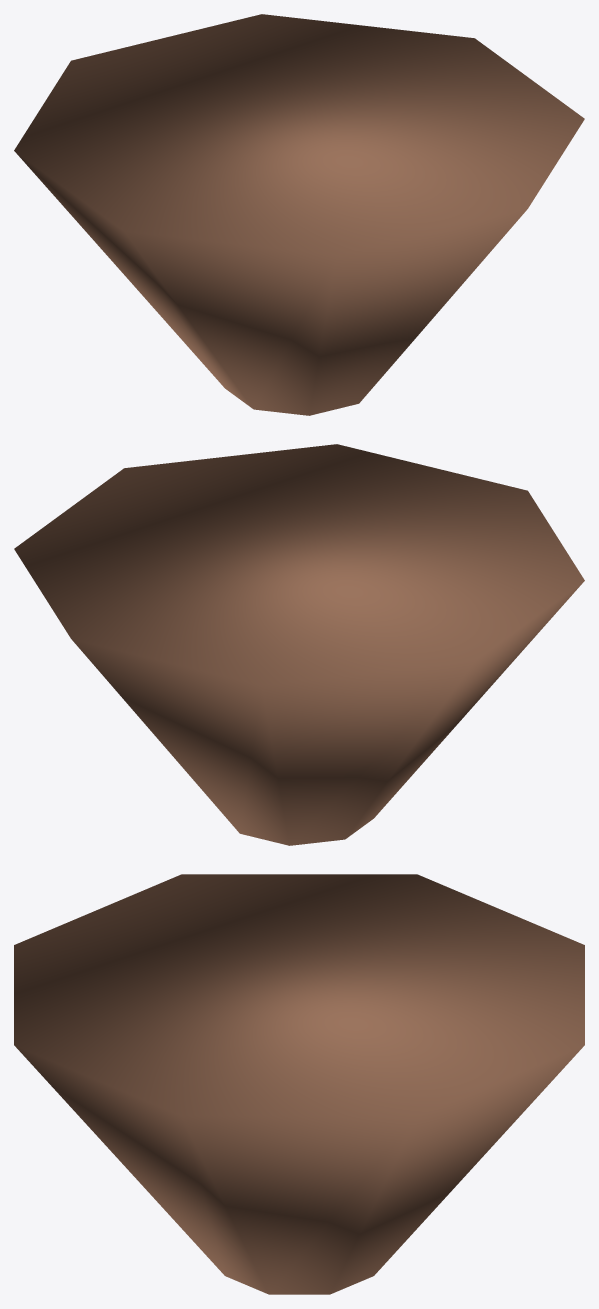
Rendered from candy_under.glb.
3 views of the same model, one above another, from view 1: azimuth 30°, elevation 25°; view 2: azimuth 150°, elevation 25°; view 3: azimuth 270°, elevation 25° (orthographic). The views are drawn at different scales.
Visible parts, largest first — view 1: under; view 2: under; view 3: under.
Part boxes in pixels (left/top/right/bottom): under: left=14, top=14, right=584, bottom=415; under: left=14, top=444, right=584, bottom=845; under: left=14, top=874, right=584, bottom=1294.
Bounding box in the file's own units: 4.25 × 2.2 × 4.25.
